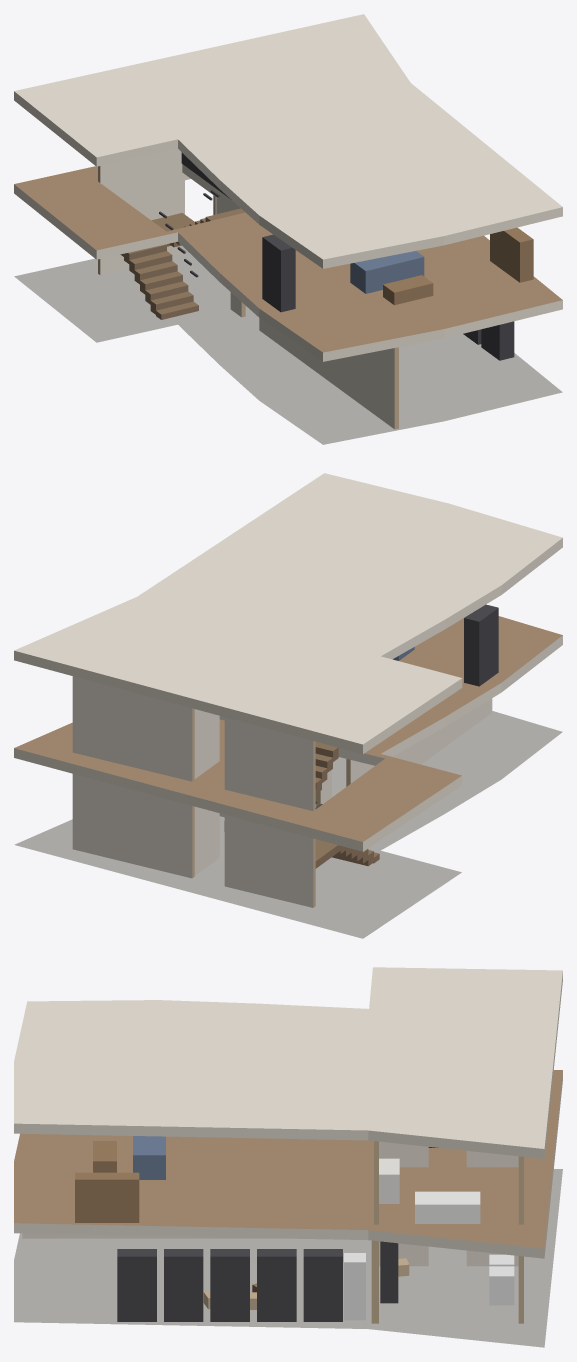
Rendered from interior.glb.
3 views of the same model, one above another, from view 1: azimuth 30°, elevation 25°; view 2: azimuth 150°, elevation 25°; view 3: azimuth 270°, elevation 25° (orthographic). The views are drawn at different scales.
Parts seen in each view (by area): view 1: slabs, partitions, coarse-s1, stair, coarse-s0; view 2: slabs, partitions, coarse-s1, stair; view 3: slabs, coarse-s0, coarse-s1, partitions.
Part boxes in pixels (box(x1,y1,x2,y2)): slabs: box(14, 14, 562, 444); partitions: box(98, 148, 398, 429); coarse-s1: box(262, 227, 533, 312); stair: box(120, 152, 245, 319); coarse-s0: box(463, 321, 514, 360); slabs: box(14, 473, 562, 938); partitions: box(72, 676, 492, 907); coarse-s1: box(393, 604, 498, 686); stair: box(315, 741, 379, 868); slabs: box(14, 967, 562, 1347); coarse-s0: box(117, 1241, 514, 1321); coarse-s1: box(75, 1136, 480, 1223); partitions: box(22, 1141, 523, 1323).
Bounding box in the file's own units: 10.17 × 5.2 × 12.98.
